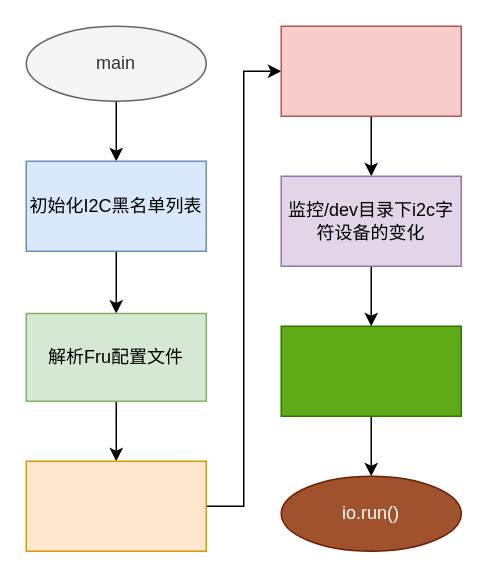
Image size: 488x578. Some labels were removed from this diagram. Each missing label, with the centre of its shape:
初始化Fru信息: the point at 370,370
注册Dbus接口、方法、属性: the point at 115,505
监控主机上电状态变化: the point at 370,70
